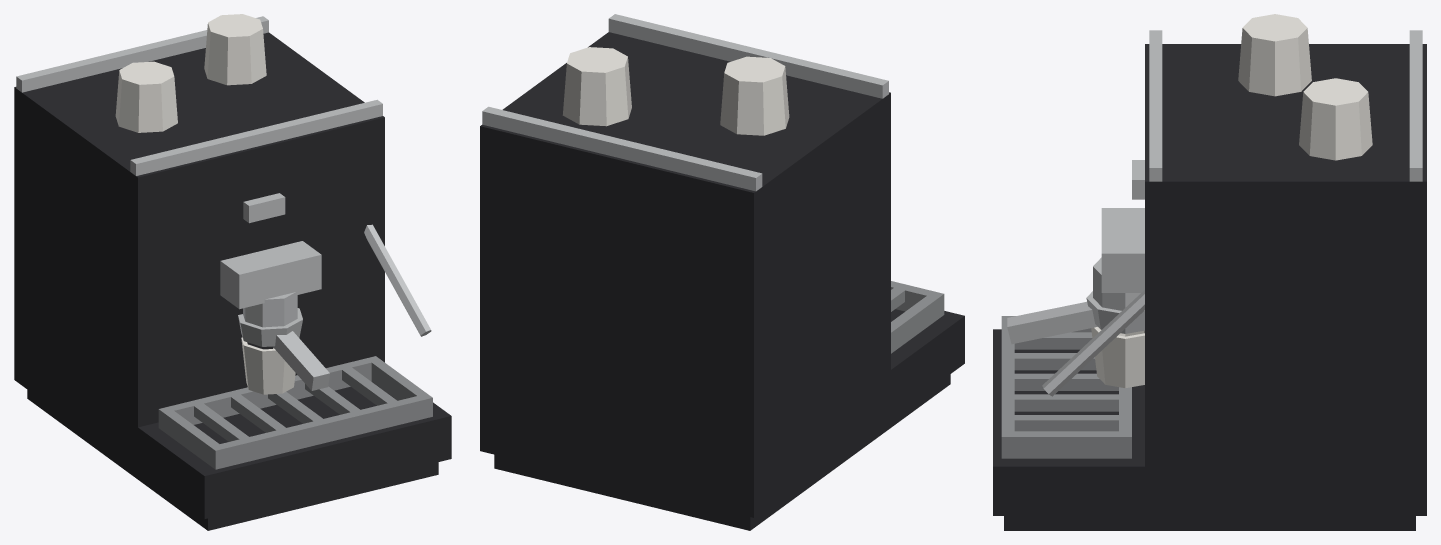
The model's file is FN_Machine_Coffee.glb.
3 renders of one model, left to right at view 1: azimuth 30°, elevation 25°; view 2: azimuth 150°, elevation 25°; view 3: azimuth 270°, elevation 25°, orthographic. The views are drawn at different scales.
Parts seen in each view (by area): view 1: FN_Machine_Coffee; view 2: FN_Machine_Coffee; view 3: FN_Machine_Coffee.
Boxes of the visible parts, <box> form: FN_Machine_Coffee: <box>14,14,451,530</box>; FN_Machine_Coffee: <box>480,14,964,530</box>; FN_Machine_Coffee: <box>993,14,1426,530</box>.
Bounding box in the file's own units: 0.3049 × 0.414 × 0.4.
1 material, 1 textured.
